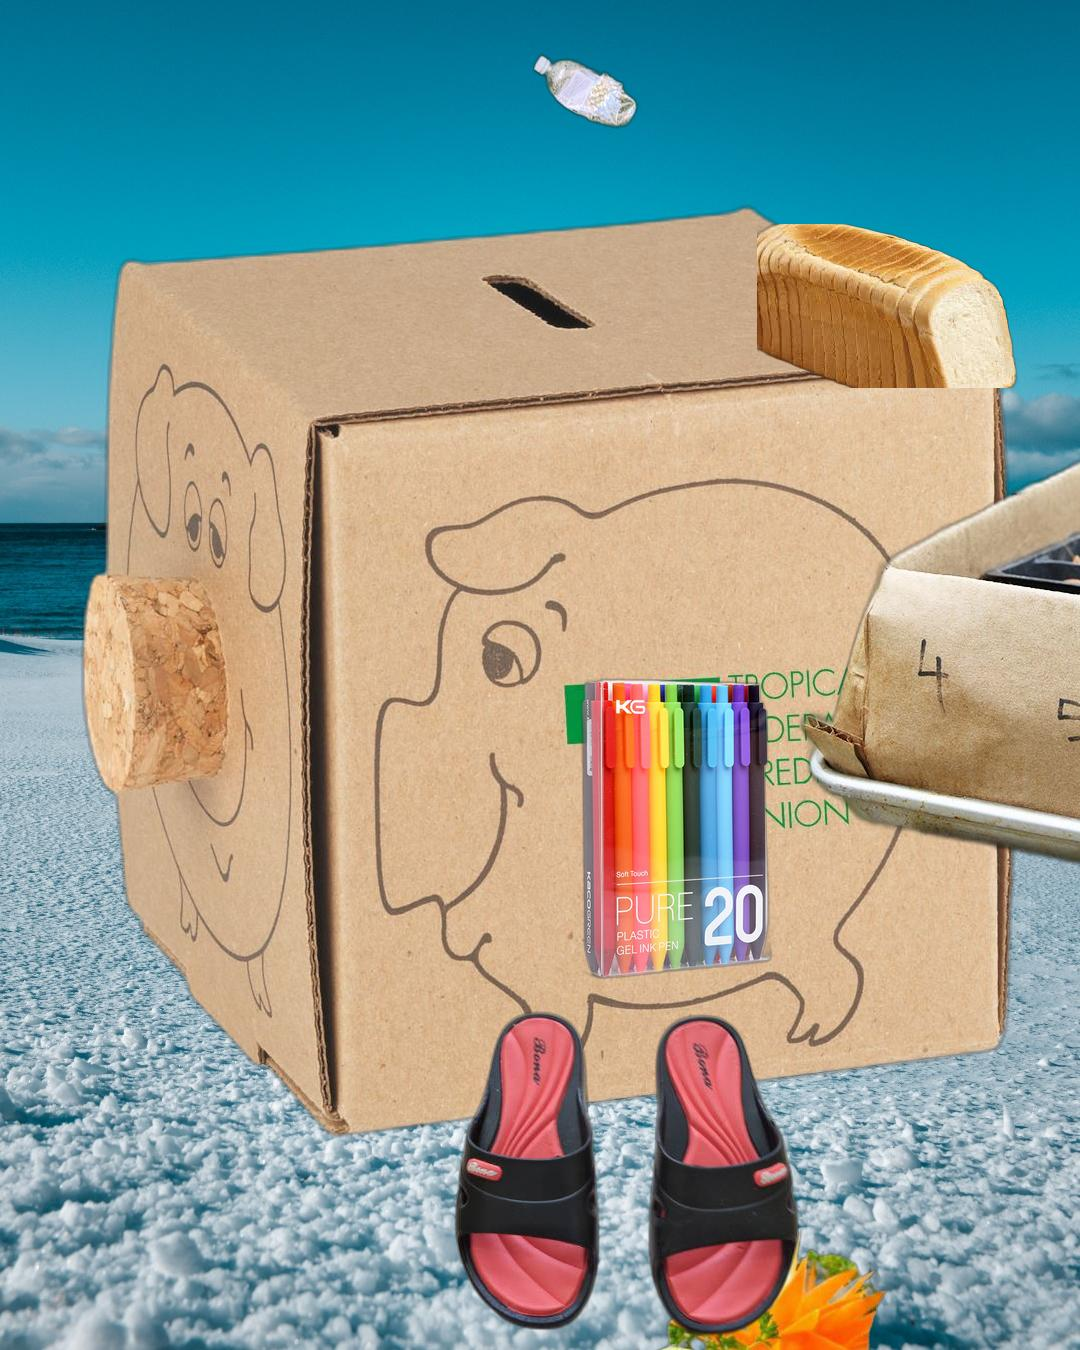biological: (597, 1217, 1080, 1350), (757, 224, 1020, 388)
penholder: (575, 676, 774, 981)
plastic-bottles: (530, 48, 641, 133)
shoes: (451, 1007, 799, 1339)
trashbox-cardboard: (73, 198, 1022, 1144), (796, 436, 1080, 957)
